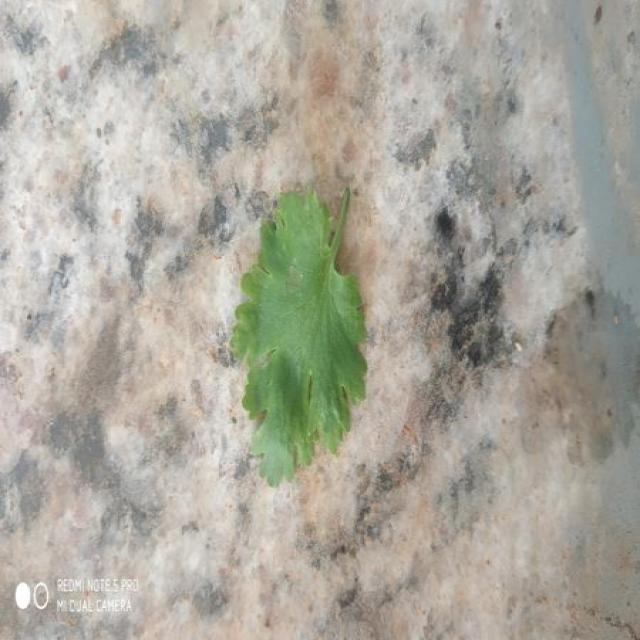coriender: (232, 191, 365, 486)
